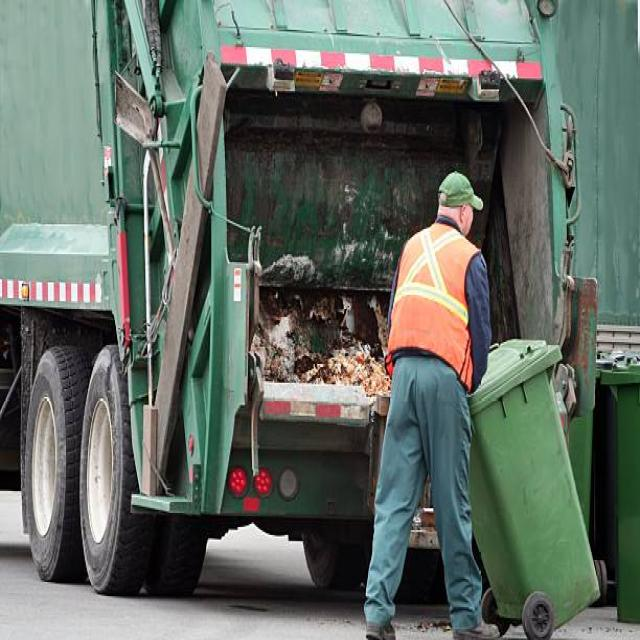metal: (495, 348, 601, 618)
trash: (268, 314, 391, 400)
